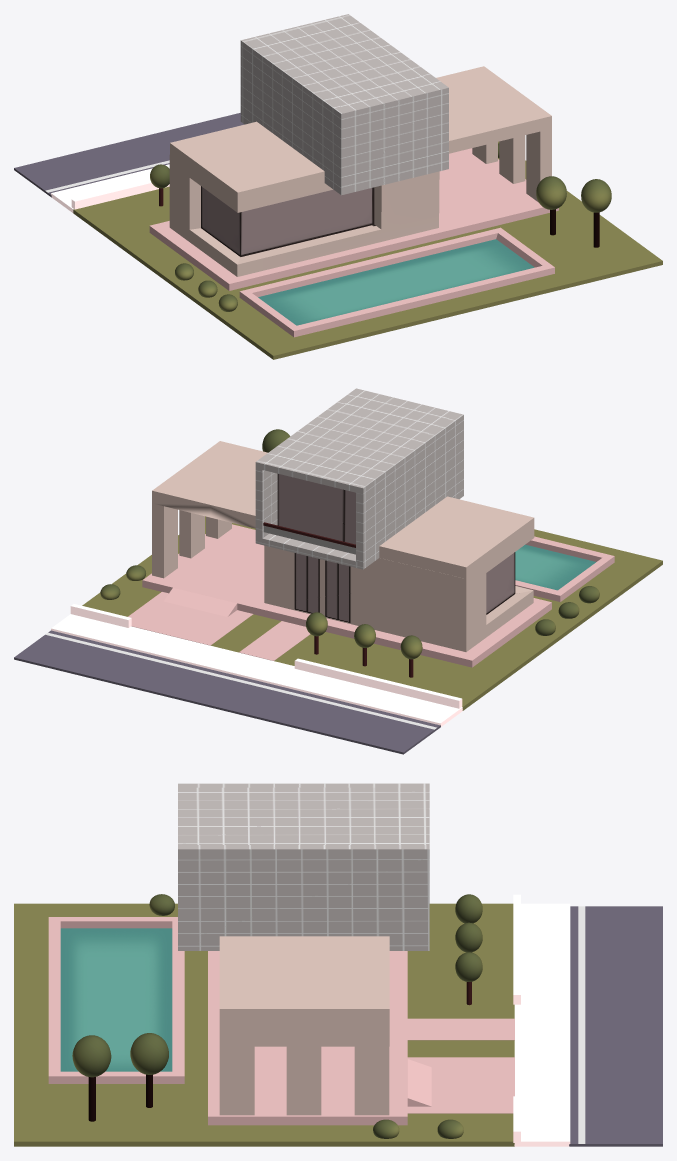
Rendered from 3d_house_model.glb.
3 renders of one model, top to bottom at view 1: azimuth 30°, elevation 25°; view 2: azimuth 150°, elevation 25°; view 3: azimuth 270°, elevation 25°, orthographic. The views are drawn at different scales.
Visible parts, largest first — view 1: pCube21, polySurface29, polySurface15, polySurface48, polySurface47, pPlane1, polySurface39, polySurface51, polySurface50, polySurface46, polySurface11, polySurface45; view 2: polySurface15, pCube21, polySurface29, polySurface39, polySurface46, polySurface47, polySurface48, pPlane1, polySurface49, pPlane2, polySurface50, polySurface14; view 3: polySurface29, polySurface15, pCube21, polySurface39, polySurface47, pPlane1, polySurface51, polySurface49, polySurface50, pPlane2, polySurface48, polySurface11 (+4 smaller).
Boxes of the visible parts, <box> form: pCube21: <box>240,14,448,195</box>; polySurface29: <box>73,141,662,359</box>; polySurface15: <box>51,148,558,337</box>; polySurface48: <box>184,166,439,276</box>; polySurface47: <box>170,66,551,204</box>; pPlane1: <box>258,239,534,325</box>; polySurface39: <box>14,113,244,197</box>; polySurface51: <box>526,128,551,202</box>; polySurface50: <box>499,135,525,183</box>; polySurface46: <box>169,155,183,237</box>; polySurface11: <box>581,179,611,212</box>; polySurface45: <box>536,176,566,209</box>; polySurface15: <box>51,524,614,726</box>; pCube21: <box>255,388,463,569</box>; polySurface29: <box>82,516,662,710</box>; polySurface39: <box>14,630,440,754</box>; polySurface46: <box>264,545,480,651</box>; polySurface47: <box>152,441,534,578</box>; polySurface48: <box>480,530,534,641</box>; pPlane1: <box>515,544,595,590</box>; polySurface49: <box>152,503,177,578</box>; pPlane2: <box>45,632,436,729</box>; polySurface50: <box>179,510,204,558</box>; polySurface14: <box>263,525,355,554</box>; polySurface29: <box>14,903,514,1146</box>; polySurface15: <box>48,894,570,1146</box>; pCube21: <box>178,783,429,950</box>; polySurface39: <box>569,906,662,1146</box>; polySurface47: <box>219,936,389,1024</box>; pPlane1: <box>60,928,172,1071</box>; polySurface51: <box>219,1025,254,1115</box>; polySurface49: <box>354,1025,389,1115</box>; polySurface50: <box>286,1025,321,1115</box>; pPlane2: <box>578,906,585,1143</box>; polySurface48: <box>254,1025,354,1046</box>; polySurface11: <box>72,1035,111,1077</box>.
Size of the model in its own units: 47.21 by 19.16 by 54.47.
17 materials, 8 textured.
